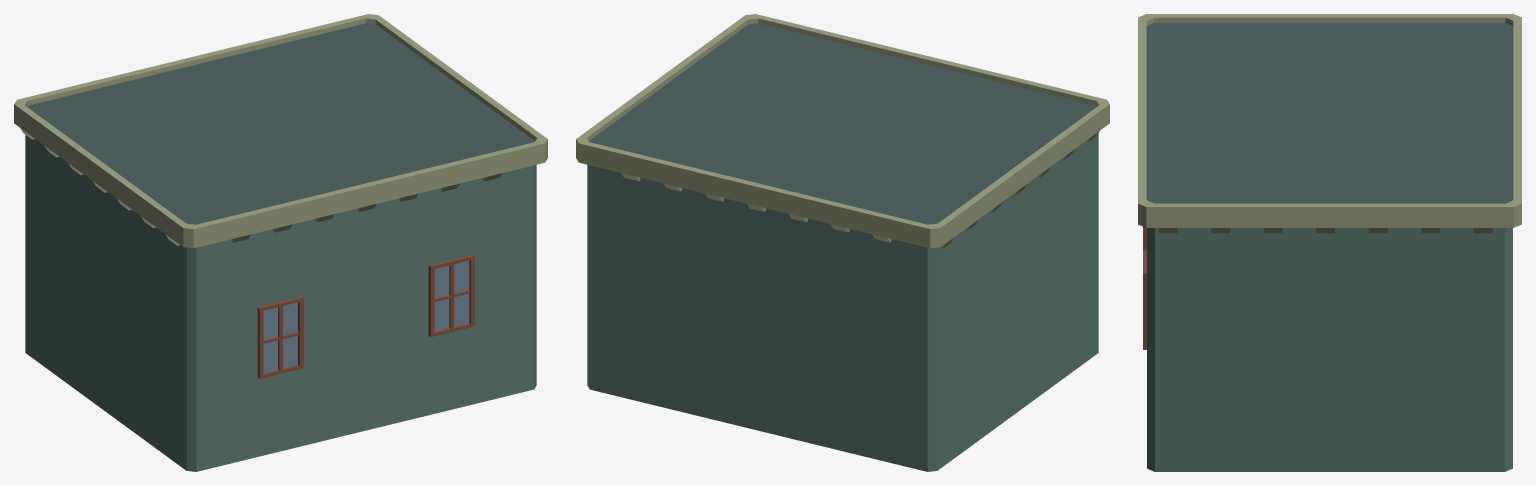
File: Building1Middle.fbx
3 renders of one model, left to right at view 1: azimuth 30°, elevation 25°; view 2: azimuth 150°, elevation 25°; view 3: azimuth 270°, elevation 25°, orthographic. The views are drawn at different scales.
Parts seen in each view (by area): view 1: Building1Middle; view 2: Building1Middle; view 3: Building1Middle.
Boxes of the visible parts, x1=… form: Building1Middle: x1=14, y1=14, x2=547, y2=471; Building1Middle: x1=576, y1=14, x2=1109, y2=471; Building1Middle: x1=1138, y1=14, x2=1521, y2=471.
Bounding box in the file's own units: 250 × 162 × 210.
